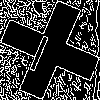I: (25, 25, 56, 73)
